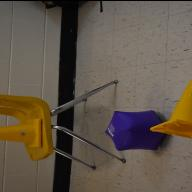cone: (148, 80, 192, 138), (0, 117, 42, 147)
cube: (104, 108, 164, 150)
